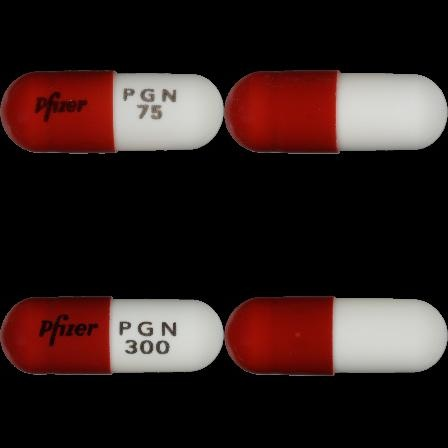50436-6523: (0, 0, 224, 224)
